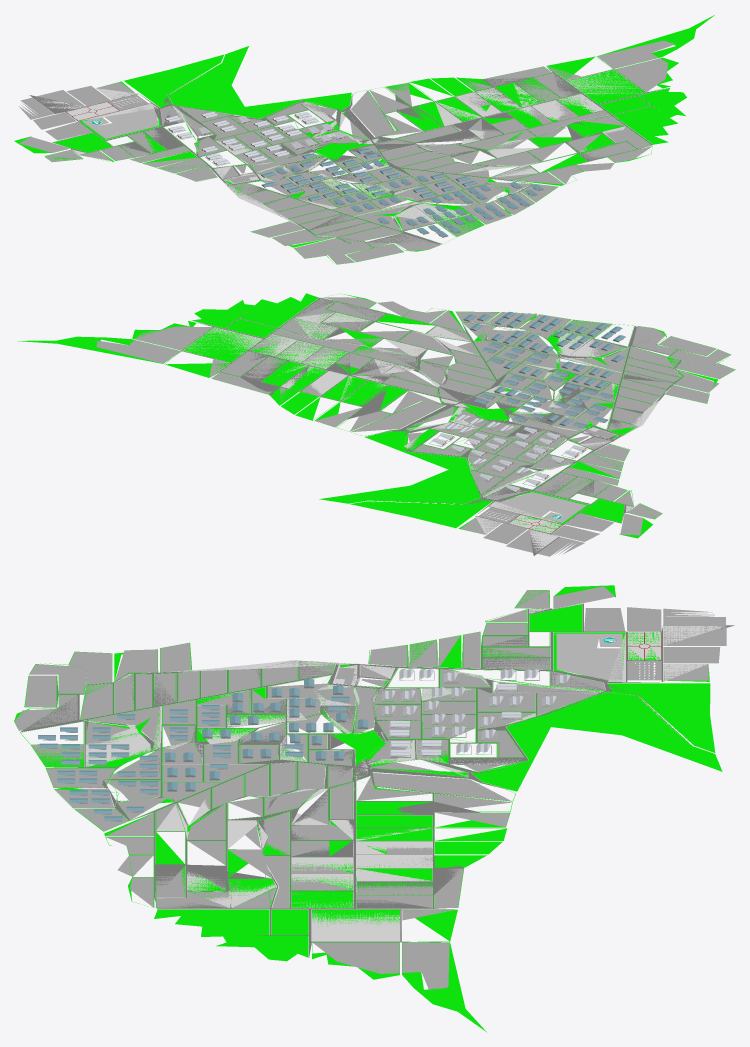
File: AgroIndustri.glb
3 views of the same model, one above another, from view 1: azimuth 30°, elevation 25°; view 2: azimuth 150°, elevation 25°; view 3: azimuth 270°, elevation 25° (orthographic). The views are drawn at different scales.
Parts seen in each view (by area): view 1: Model_Zonasi_Clean; view 2: Model_Zonasi_Clean; view 3: Model_Zonasi_Clean.
Boxes of the visible parts, x1=… form: Model_Zonasi_Clean: x1=14, y1=15, x2=714, y2=264; Model_Zonasi_Clean: x1=18, y1=293, x2=735, y2=556; Model_Zonasi_Clean: x1=14, y1=585, x2=734, y2=1031.
Size of the model in its own units: 3 by 0.0112 by 2.05.
Materials: 30 (7 with a texture image).
